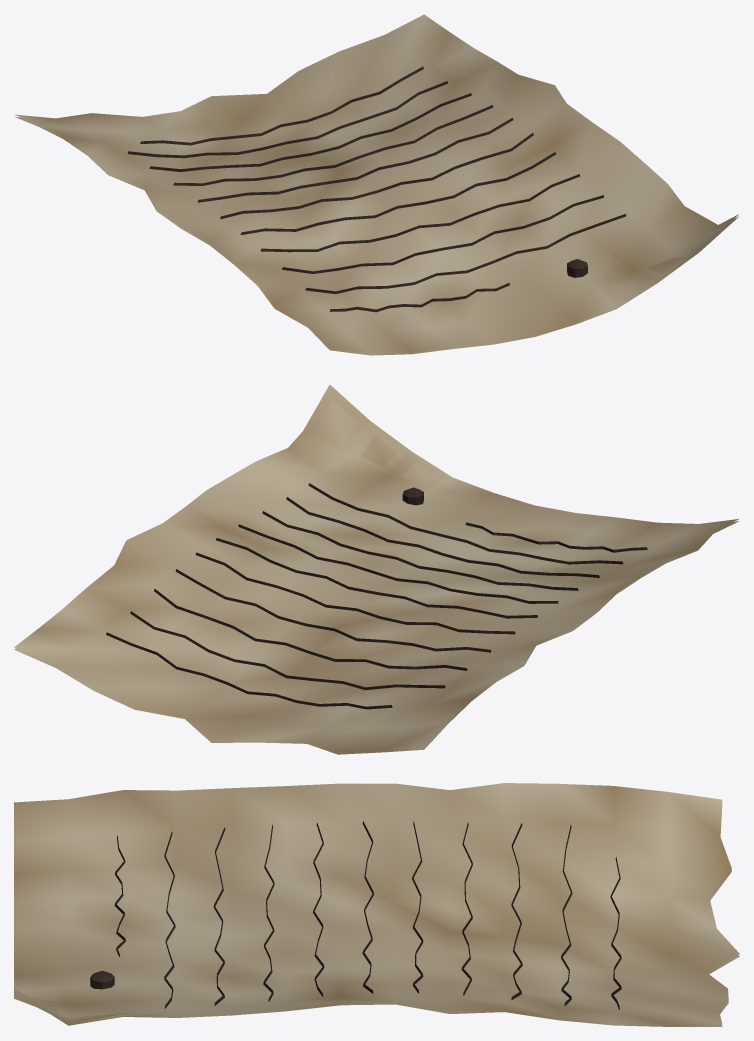
File: journal-page.glb
3 views of the same model, one above another, from view 1: azimuth 30°, elevation 25°; view 2: azimuth 150°, elevation 25°; view 3: azimuth 270°, elevation 25° (orthographic). The views are drawn at different scales.
Visible parts, largest first — view 1: journal-page; view 2: journal-page; view 3: journal-page.
Part boxes in pixels (box(x1,y1,x2,y2)): journal-page: box(15, 14, 738, 355); journal-page: box(14, 384, 739, 754); journal-page: box(14, 783, 739, 1026).
Bounding box in the file's own units: 0.1558 × 0.0256 × 0.2049.
